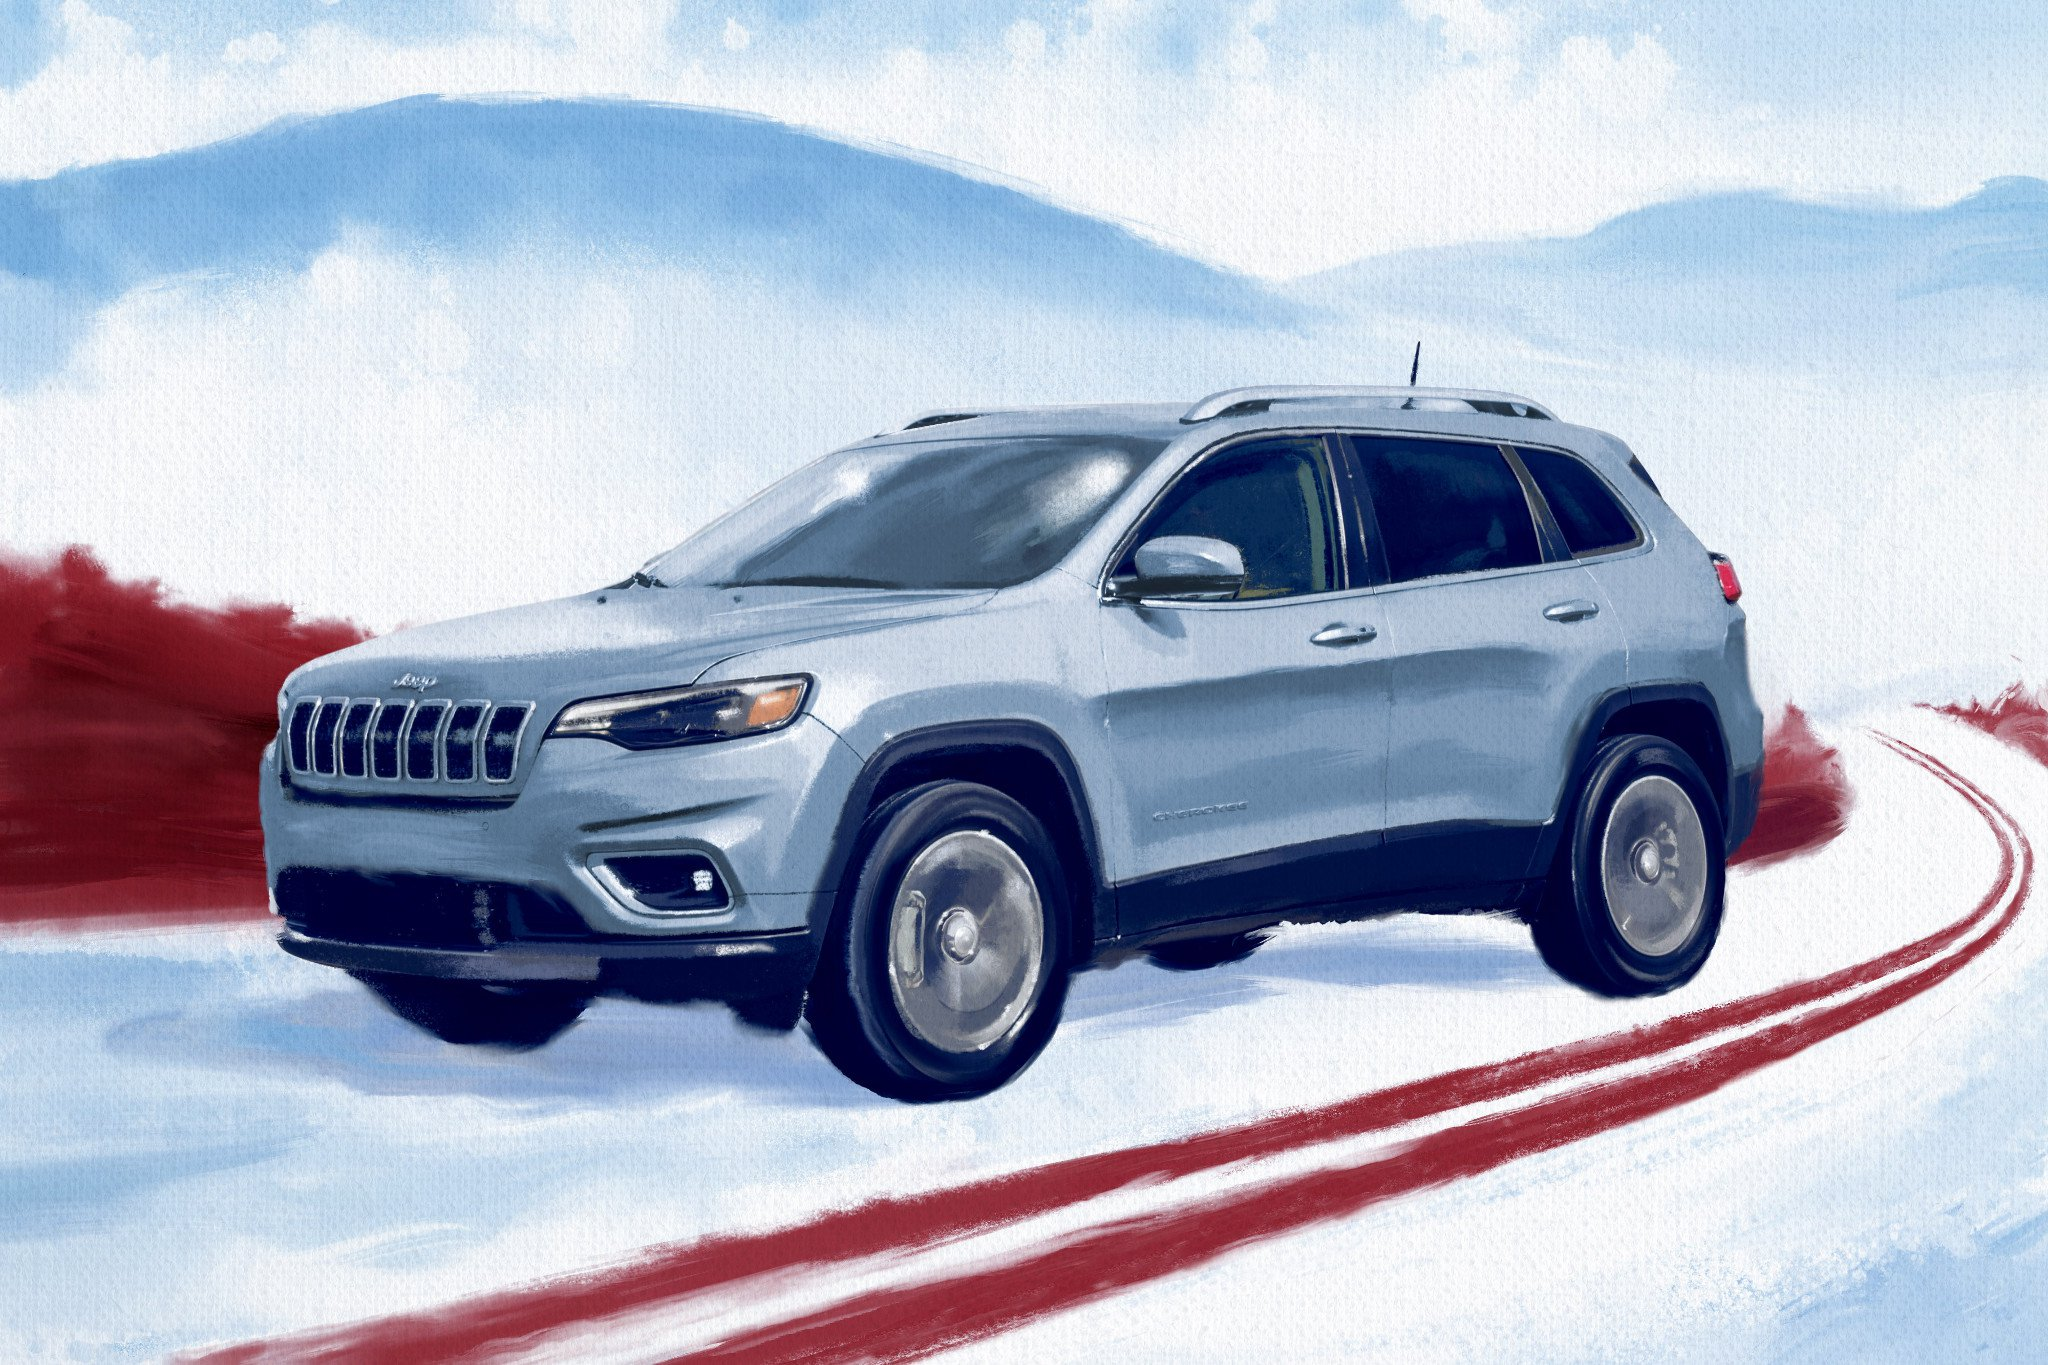car: (262, 360, 1772, 1004)
